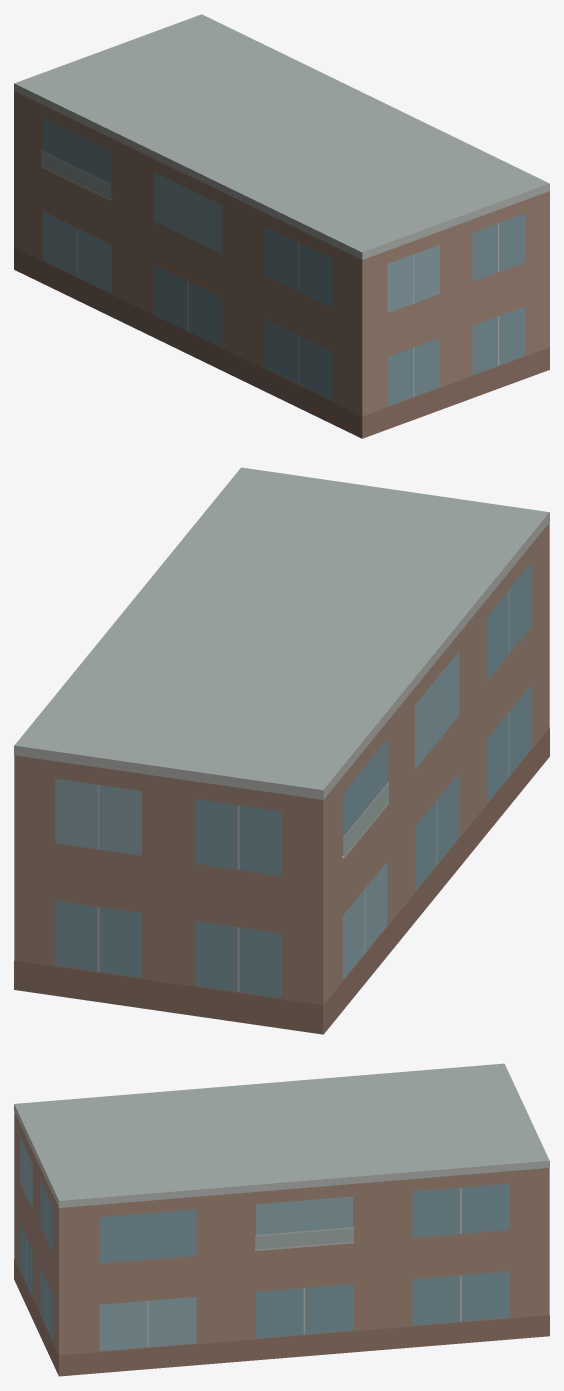
File: survey-upis-32709153.glb
3 views of the same model, one above another, from view 1: azimuth 30°, elevation 25°; view 2: azimuth 150°, elevation 25°; view 3: azimuth 270°, elevation 25° (orthographic). The views are drawn at different scales.
Parts seen in each view (by area): view 1: survey-upis-32709153.tmp; view 2: survey-upis-32709153.tmp; view 3: survey-upis-32709153.tmp.
Boxes of the visible parts, x1=… form: survey-upis-32709153.tmp: x1=14, y1=14, x2=549, y2=438; survey-upis-32709153.tmp: x1=14, y1=467, x2=549, y2=1034; survey-upis-32709153.tmp: x1=14, y1=1063, x2=549, y2=1376.
Size of the model in its own units: 10.27 by 6.1 by 16.9.
